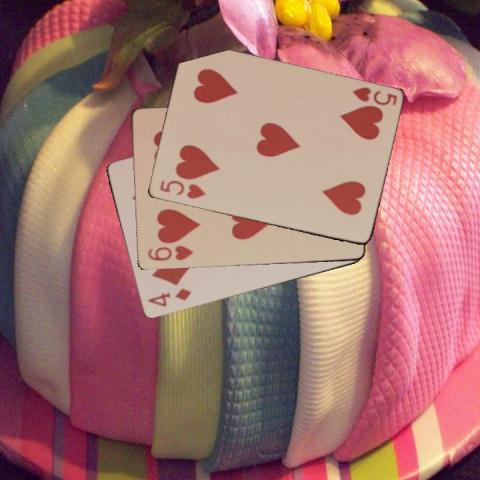4d: (144, 285, 192, 309)
5h: (156, 177, 207, 201), (349, 84, 398, 107)
6h: (145, 242, 194, 262)
